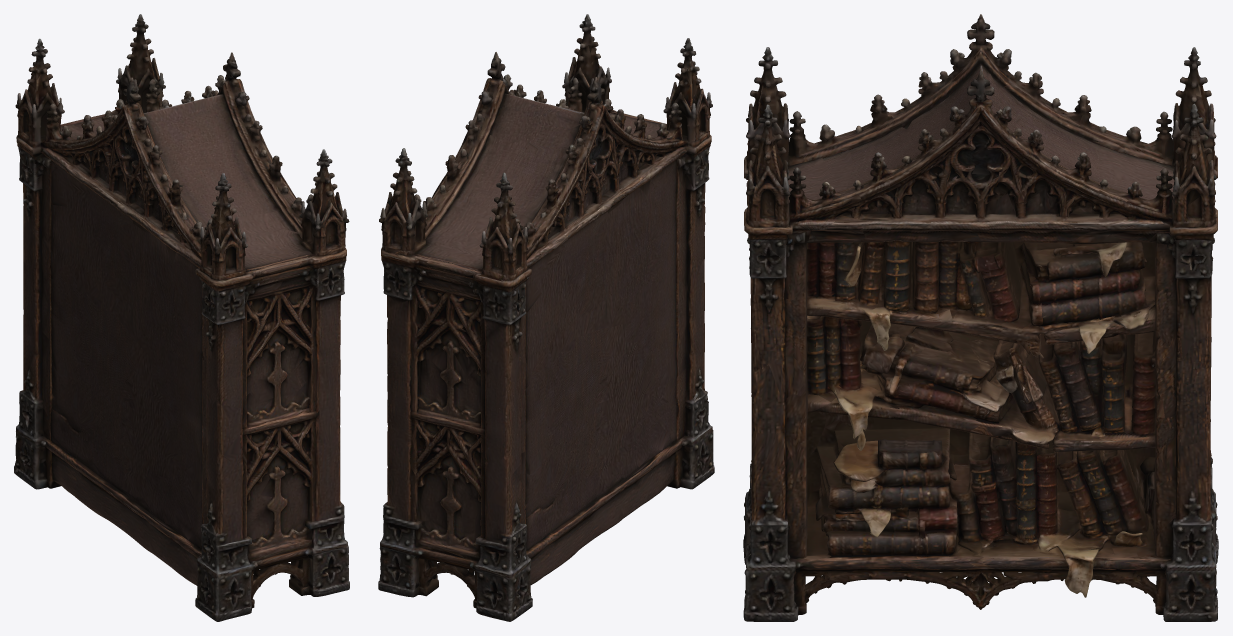
File: raw_shelf_ruined.glb
3 renders of one model, left to right at view 1: azimuth 30°, elevation 25°; view 2: azimuth 150°, elevation 25°; view 3: azimuth 270°, elevation 25°, orthographic. The views are drawn at different scales.
Parts seen in each view (by area): view 1: shelf_ruined; view 2: shelf_ruined; view 3: shelf_ruined.
Part boxes in pixels (x1=…): shelf_ruined: x1=14, y1=14, x2=349, y2=621; shelf_ruined: x1=378, y1=14, x2=714, y2=621; shelf_ruined: x1=743, y1=14, x2=1218, y2=621.
Size of the model in its own units: 0.3064 by 1 by 0.7931.
1 material, 1 textured.
